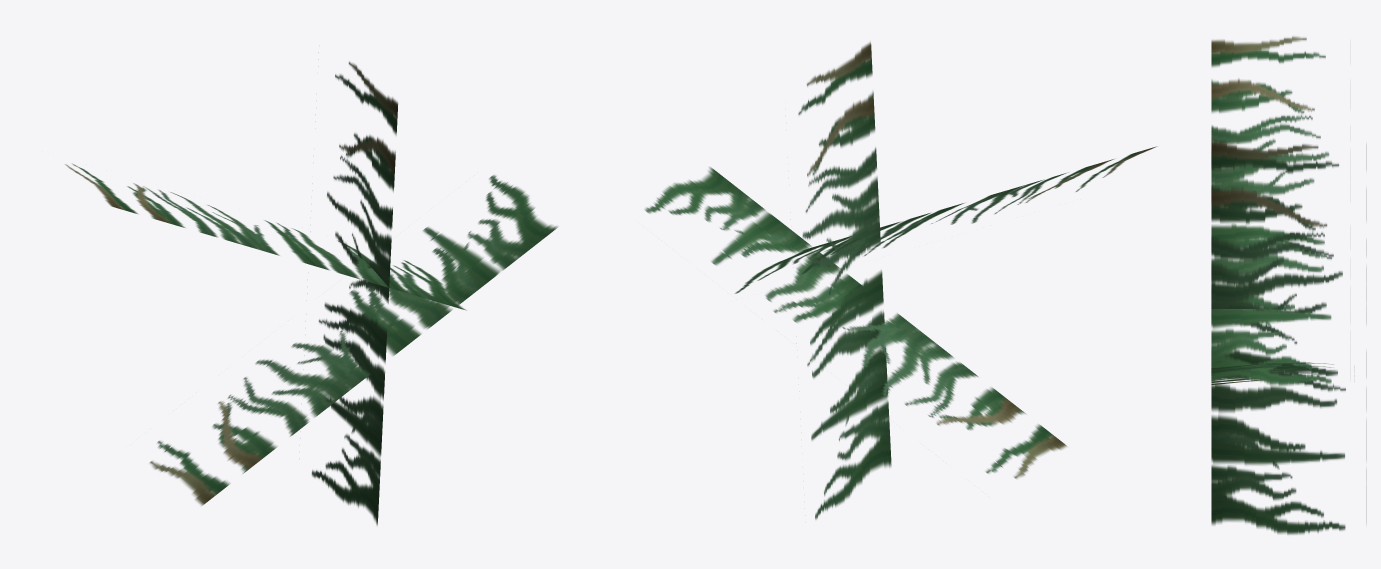
Rendered from Tuft_Tiny.glb.
3 views of the same model, side by side, from view 1: azimuth 30°, elevation 25°; view 2: azimuth 150°, elevation 25°; view 3: azimuth 270°, elevation 25° (orthographic). The views are drawn at different scales.
Parts seen in each view (by area): view 1: Tuft_Tiny; view 2: Tuft_Tiny; view 3: Tuft_Tiny.
Boxes of the visible parts, bbox=[...] form: Tuft_Tiny: bbox=[65, 61, 557, 525]; Tuft_Tiny: bbox=[645, 42, 1157, 519]; Tuft_Tiny: bbox=[1211, 36, 1366, 534].
Size of the model in its own units: 0.4362 by 0.3998 by 0.1257.
Materials: 1 (1 with a texture image).
